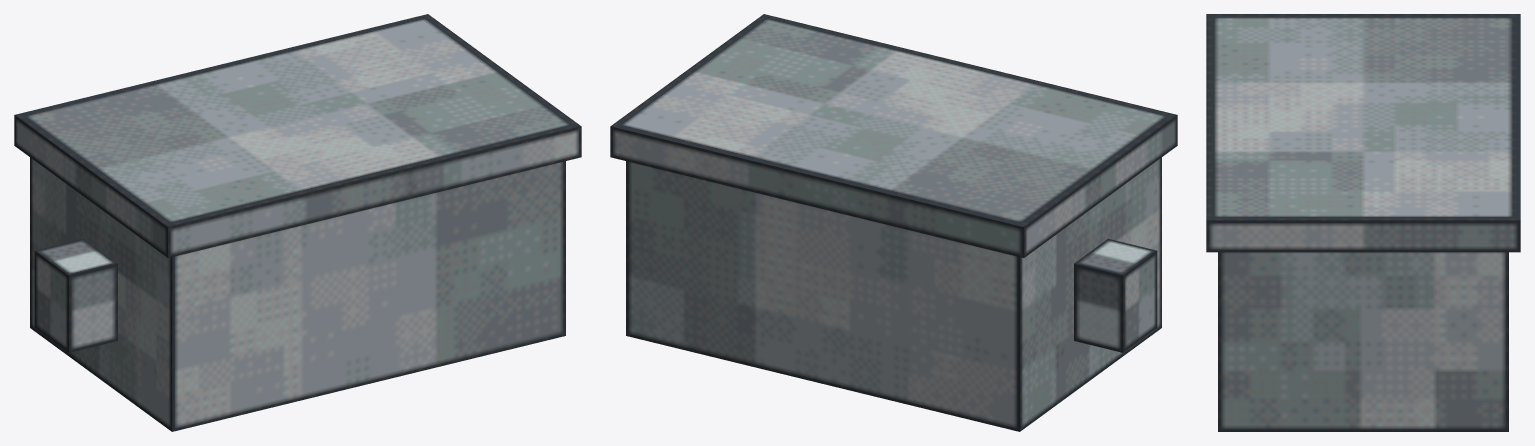
File: SM_MessTin_01.fbx
The picture shows the model from 3 angles, left to right: view 1: azimuth 30°, elevation 25°; view 2: azimuth 150°, elevation 25°; view 3: azimuth 270°, elevation 25°; orthographic projection. The views are drawn at different scales.
Visible parts, largest first — view 1: SM_MessTin_01; view 2: SM_MessTin_01; view 3: SM_MessTin_01.
Part boxes in pixels (x1,y1,x2,y2): SM_MessTin_01: (14, 14, 581, 431); SM_MessTin_01: (610, 14, 1177, 431); SM_MessTin_01: (1206, 14, 1520, 431).
Bounding box in the file's own units: 0.184 × 0.082 × 0.108.
Materials: 1 (1 with a texture image).
